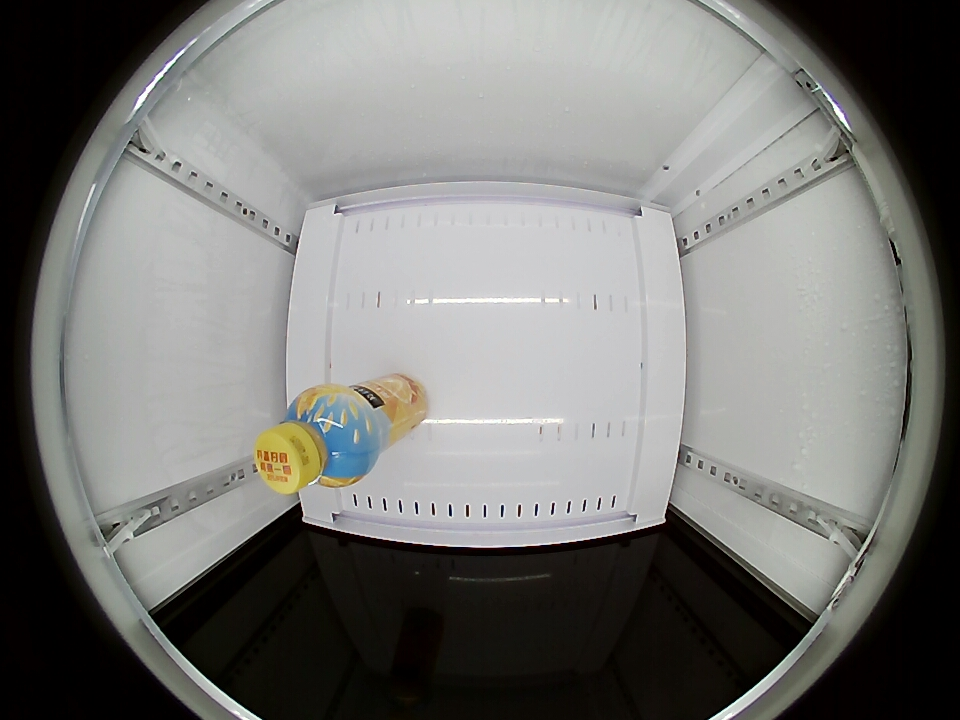guolicheng: (254, 386, 375, 493)
